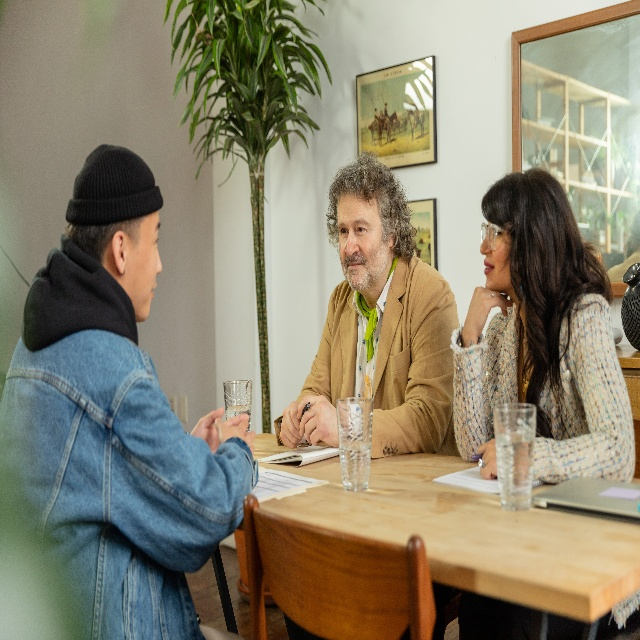Gafas: (480, 220, 509, 251)
Sin_guantes: (190, 403, 251, 454), (463, 286, 514, 336), (296, 394, 339, 446), (214, 415, 255, 454), (279, 398, 305, 447), (476, 434, 499, 478)
